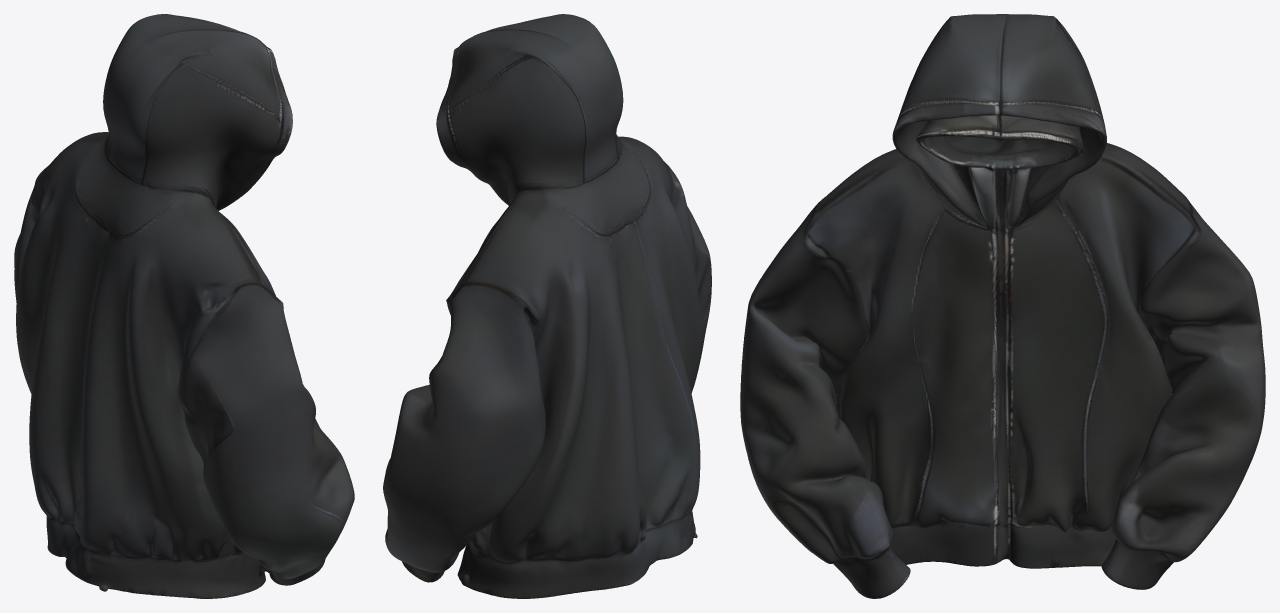
The model's file is tripo_pbr_model_accbaba4-a441-_4f9ac35e_opt.glb.
3 renders of one model, left to right at view 1: azimuth 30°, elevation 25°; view 2: azimuth 150°, elevation 25°; view 3: azimuth 270°, elevation 25°, orthographic. The views are drawn at different scales.
Parts seen in each view (by area): view 1: tripo_node_accbaba4-a441-4e8d-9179-bd674b5653fd; view 2: tripo_node_accbaba4-a441-4e8d-9179-bd674b5653fd; view 3: tripo_node_accbaba4-a441-4e8d-9179-bd674b5653fd.
Part boxes in pixels (box(x1,y1,x2,y2)): tripo_node_accbaba4-a441-4e8d-9179-bd674b5653fd: box(14, 14, 354, 598); tripo_node_accbaba4-a441-4e8d-9179-bd674b5653fd: box(383, 14, 711, 598); tripo_node_accbaba4-a441-4e8d-9179-bd674b5653fd: box(740, 14, 1265, 598).
Bounding box in the file's own units: 0.4399 × 1 × 0.8866.
Materials: 1 (1 with a texture image).
